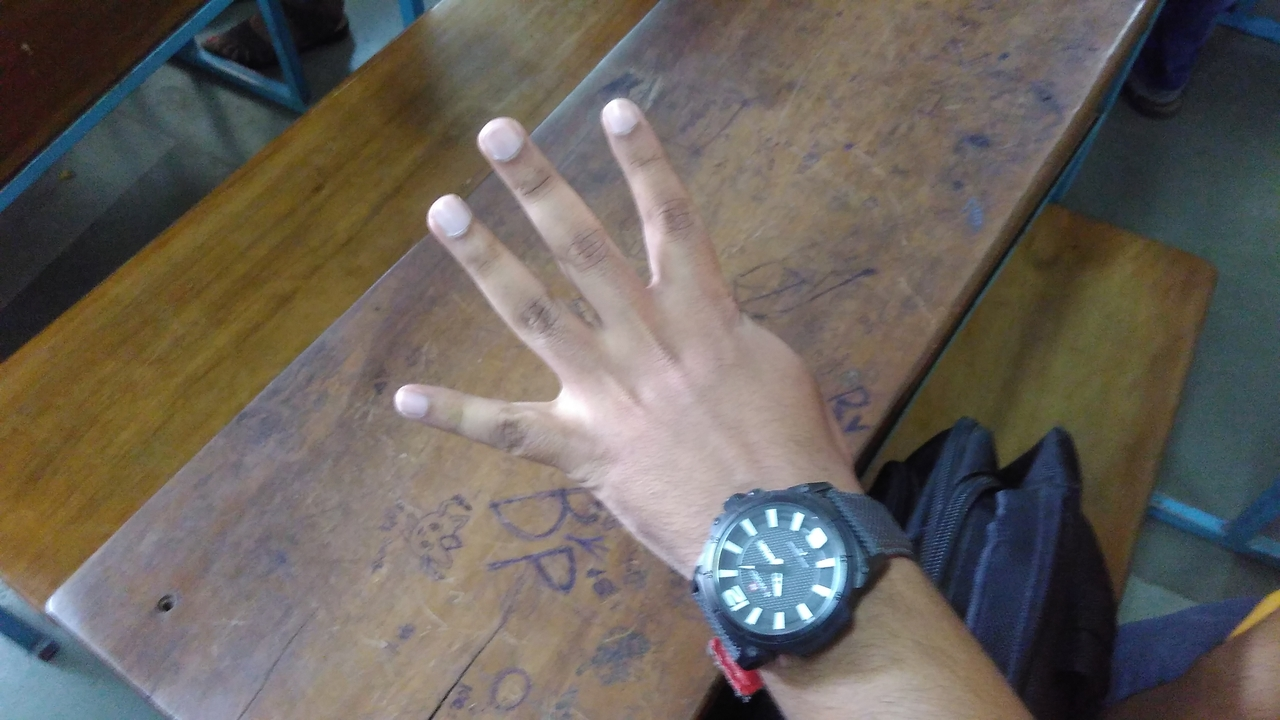fingertip: (412, 184, 478, 250), (588, 84, 654, 146), (374, 374, 441, 432), (468, 108, 532, 164)
